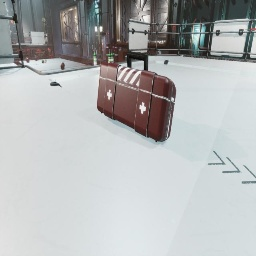0: (93, 48, 97, 65), (108, 49, 112, 63), (111, 49, 114, 63), (41, 59, 47, 63)
EmergencyPhone ,: (82, 42, 84, 48), (13, 20, 16, 24), (83, 45, 83, 45)
FireAlarm ,: (172, 23, 175, 30), (11, 20, 13, 24)
FireExtinguisher ]: (38, 44, 39, 44)
FirstAidBox ,: (97, 51, 176, 142), (49, 54, 53, 59)
NitrogenTank ,: (106, 43, 110, 63), (114, 44, 118, 62), (112, 43, 115, 63), (60, 62, 65, 70), (107, 44, 111, 54), (34, 56, 39, 61), (25, 57, 29, 63), (12, 41, 16, 44)
SafetySwitchPanel ,: (102, 36, 106, 51)
